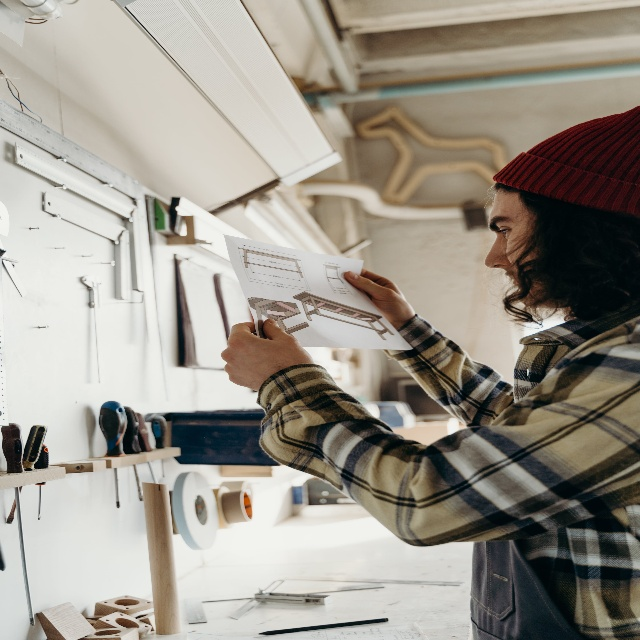Sin_guantes: (221, 317, 302, 390), (344, 269, 414, 330)
